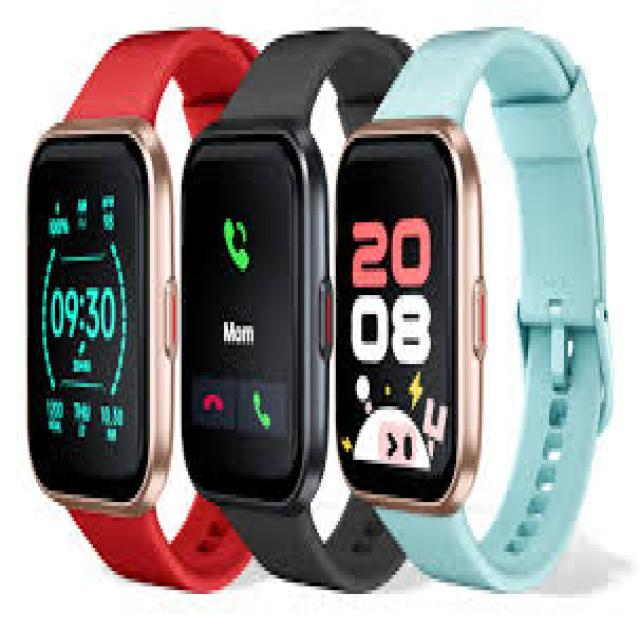objects: (336, 27, 610, 586), (182, 27, 408, 597), (27, 24, 253, 590)
